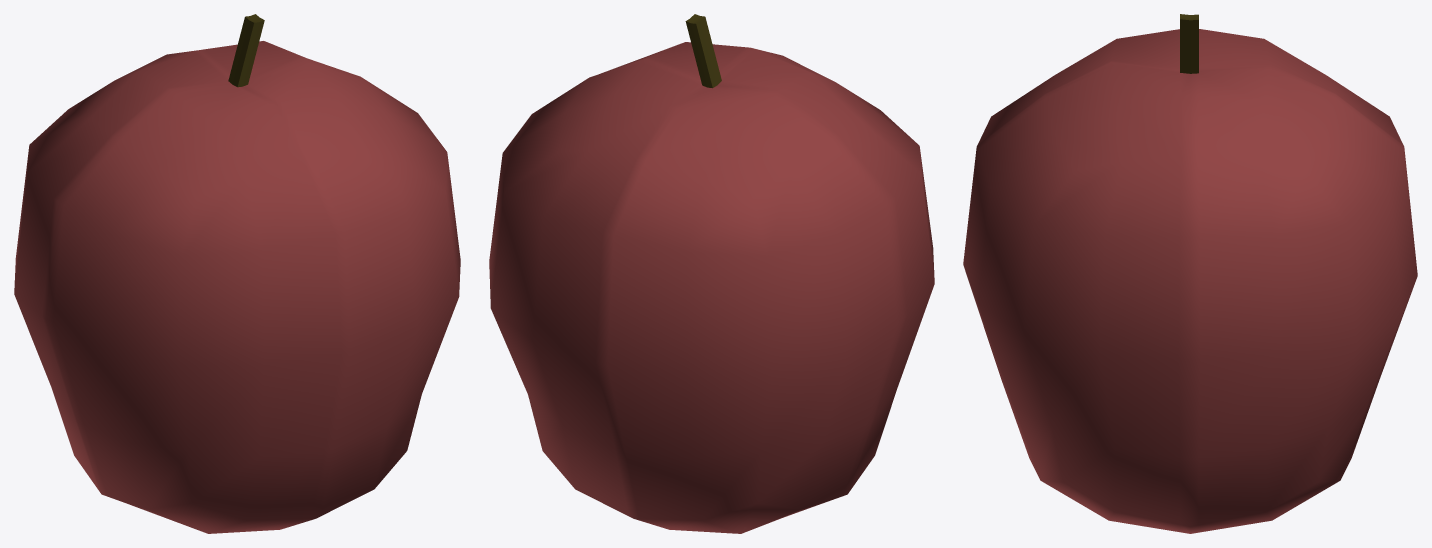
Rendered from RedApple.fbx.
3 views of the same model, side by side, from view 1: azimuth 30°, elevation 25°; view 2: azimuth 150°, elevation 25°; view 3: azimuth 270°, elevation 25° (orthographic). The views are drawn at different scales.
Parts seen in each view (by area): view 1: AppleRed; view 2: AppleRed; view 3: AppleRed.
Part boxes in pixels (bbox=[...]): AppleRed: bbox=[14, 14, 460, 533]; AppleRed: bbox=[489, 14, 934, 533]; AppleRed: bbox=[963, 14, 1417, 533].
Size of the model in its own units: 0.9081 by 1.08 by 0.9081.
